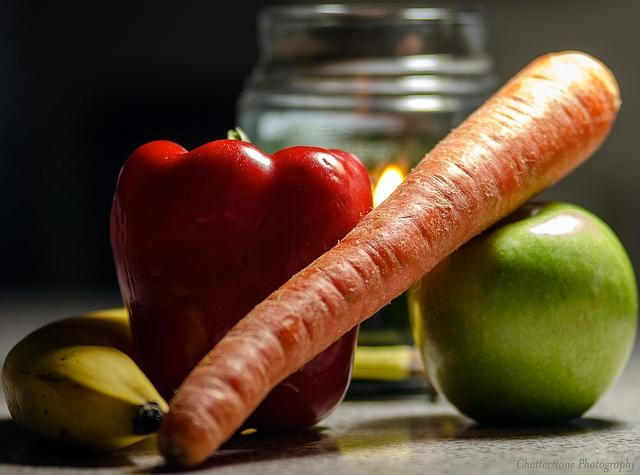apple: (407, 201, 639, 427)
banana: (1, 306, 428, 456)
bell pepper: (110, 126, 374, 434)
carrot: (158, 50, 623, 468)
